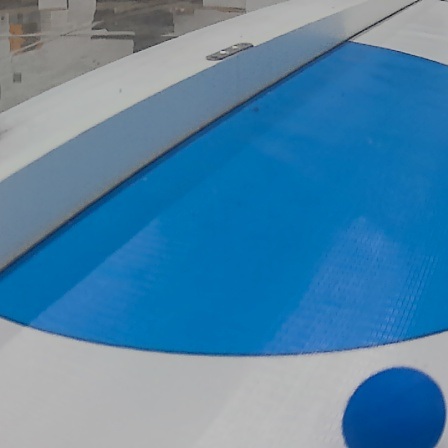blue: (338, 361, 448, 448)
blue_base: (0, 40, 448, 362)
